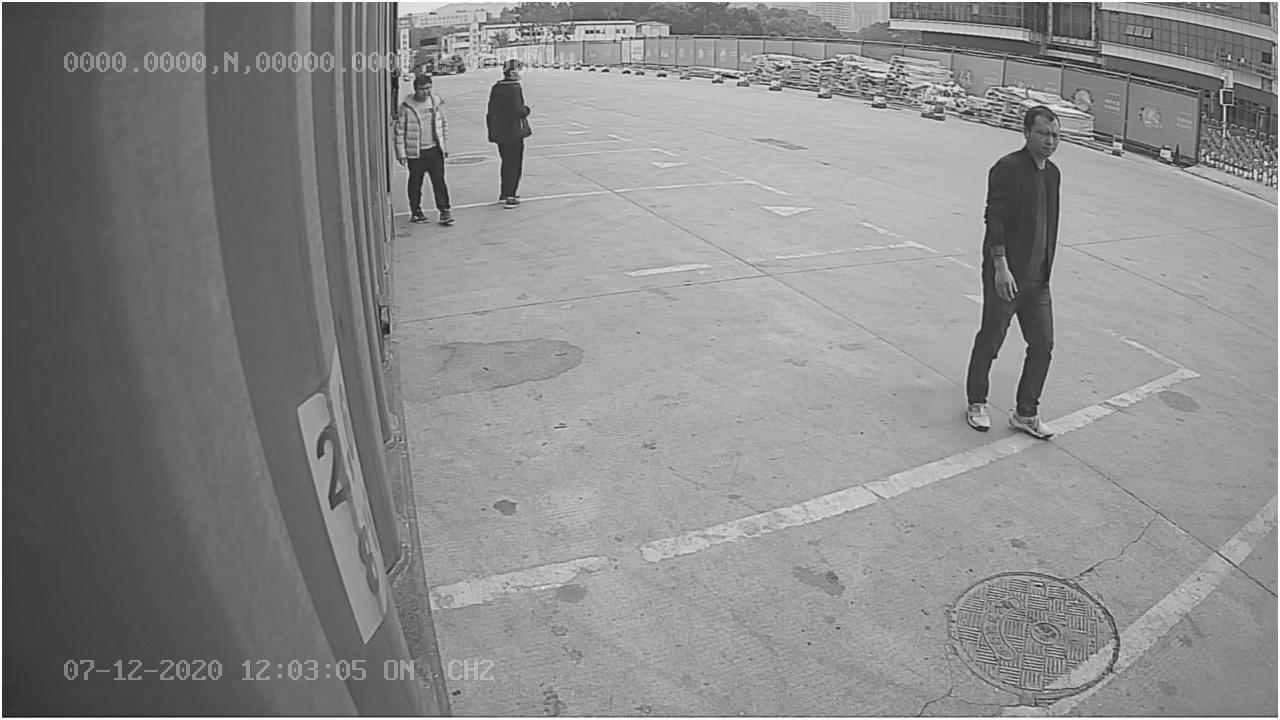person: (967, 103, 1063, 441)
